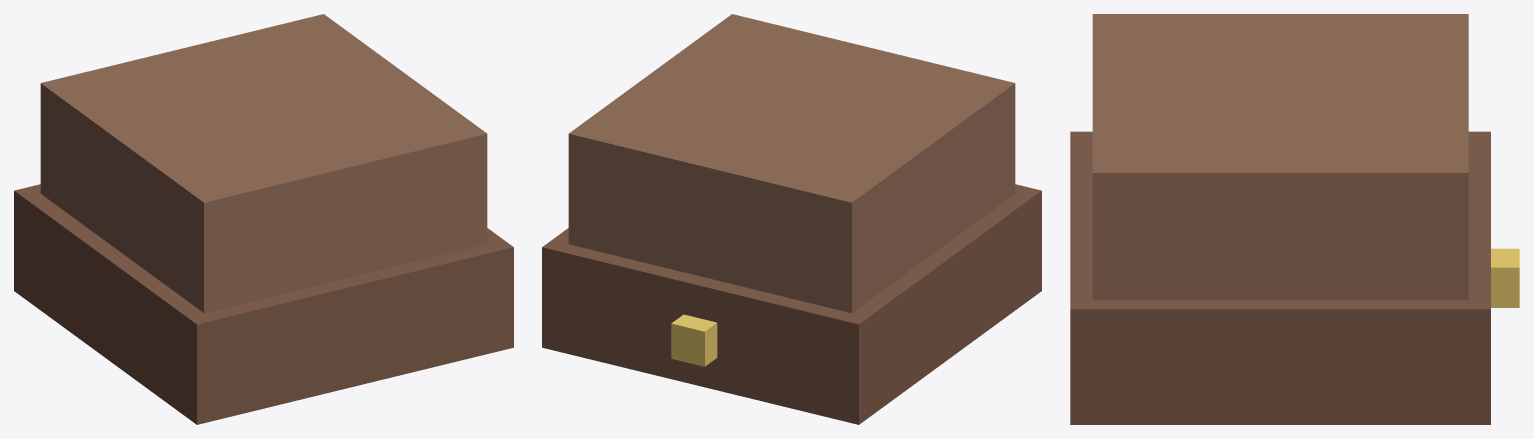
The model's file is casaco_pelo_manga_inf.glb.
The picture shows the model from 3 angles, left to right: view 1: azimuth 30°, elevation 25°; view 2: azimuth 150°, elevation 25°; view 3: azimuth 270°, elevation 25°; orthographic projection. The views are drawn at different scales.
Parts seen in each view (by area): view 1: casaco_pelo_manga_inf; view 2: casaco_pelo_manga_inf; view 3: casaco_pelo_manga_inf.
Part boxes in pixels (x1,y1,x2,y2): casaco_pelo_manga_inf: (14, 14, 513, 424); casaco_pelo_manga_inf: (542, 14, 1041, 424); casaco_pelo_manga_inf: (1070, 14, 1519, 424).
Bounding box in the file's own units: 0.33 × 0.21 × 0.3525.
